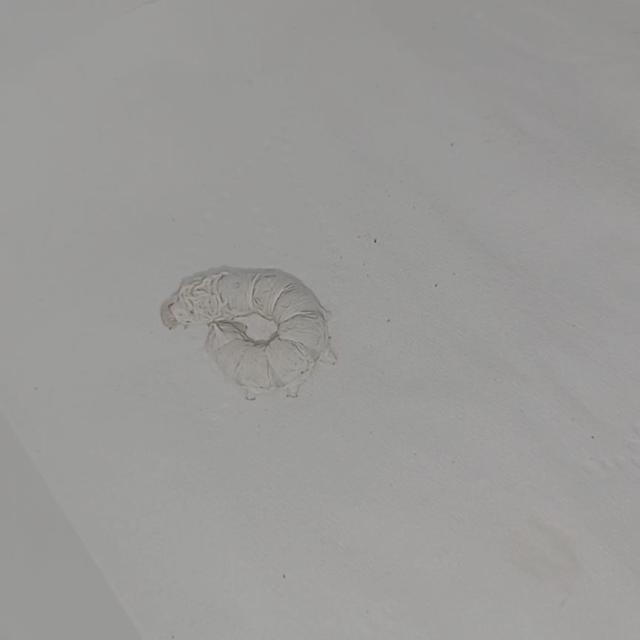Healthy: (146, 255, 350, 408)
